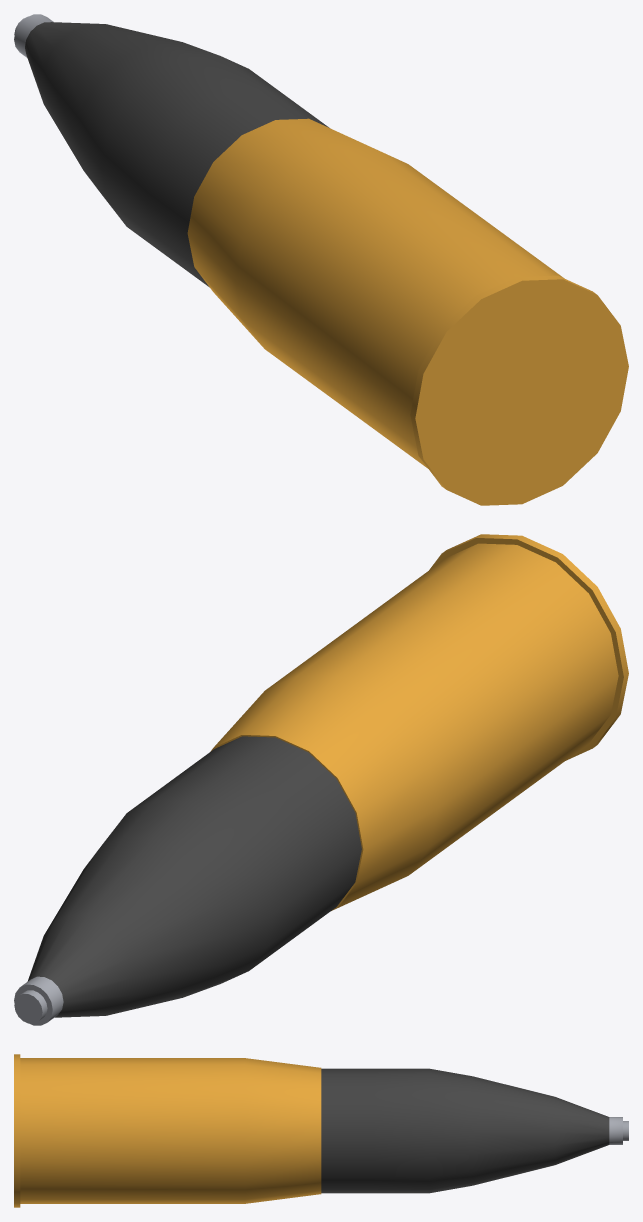
The model's file is heat_shell_88.fbx.
3 views of the same model, one above another, from view 1: azimuth 30°, elevation 25°; view 2: azimuth 150°, elevation 25°; view 3: azimuth 270°, elevation 25° (orthographic). The views are drawn at different scales.
Parts seen in each view (by area): view 1: Case; view 2: Case; view 3: Case.
Boxes of the visible parts, x1,y1,x2,y2 form: Case: (14,14,628,505); Case: (14,534,628,1025); Case: (14,1054,628,1207).
Size of the model in its own units: 100 by 100 by 400.
